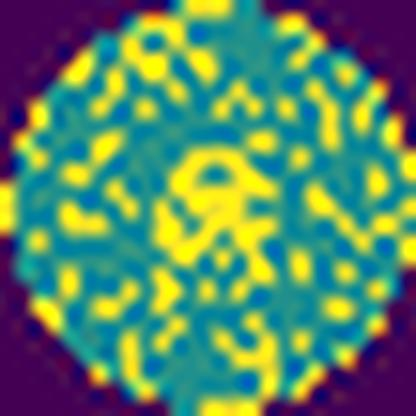Center: (150, 140, 284, 292)
